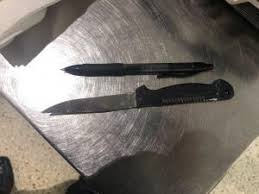knife: (31, 79, 234, 121), (63, 57, 217, 81)
